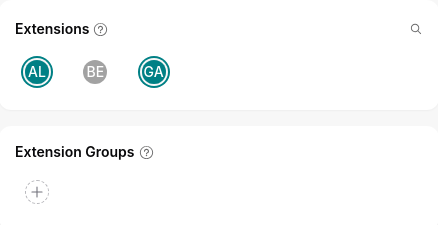
Test: Dashboard › shows the Extensions help tooltip
This screenshot has width=438, height=225.
Step 1. Focus the button named "Help" next to "Extensions" → (101, 29), box x1=94 y1=22 x2=108 y2=36
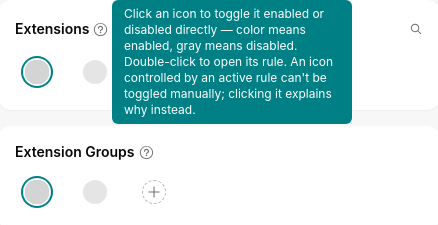
Expected: the tooltip shows "Click an icon to toggle it enabled or disabled directly", x1=124 y1=6 x2=333 y2=117
